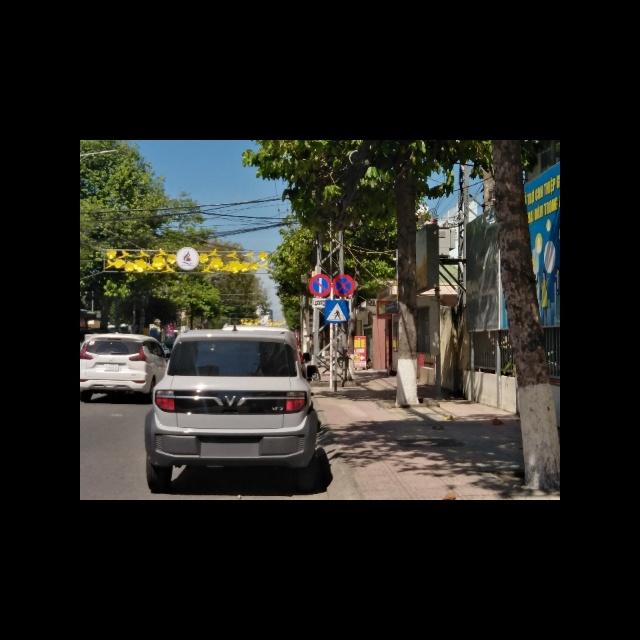Cấm dừng xe và đỗ xe: (332, 275, 355, 297)
Cấm đỗ xe ngày lẻ: (309, 274, 332, 297)
Đường dành cho người đi bộ: (325, 299, 349, 323)
